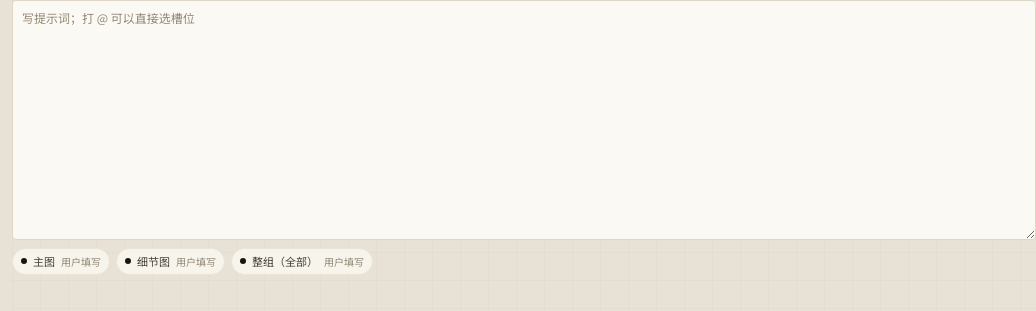
撤销 / 重做 › Ctrl+Shift+Z 重做回来
Click the field: x=524, y=120 [12,0,1035,240]
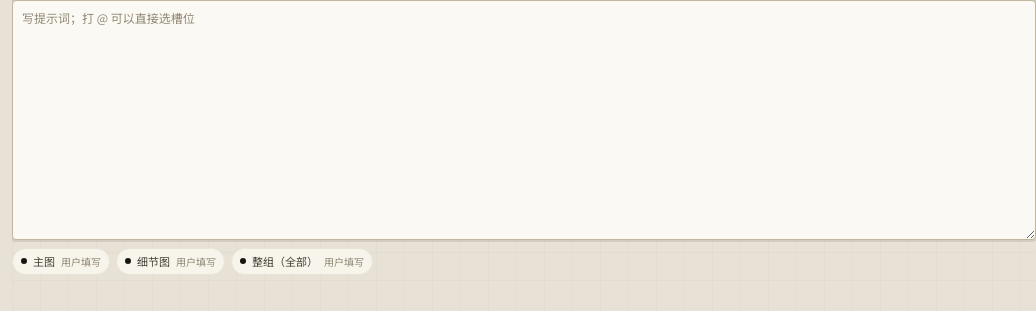
Type keys "参考 {{slot:image_1}}"
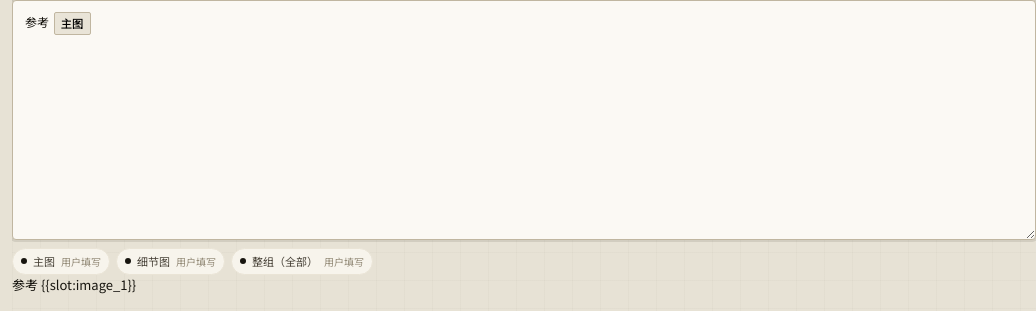
Type keys "{Control>}z{/Control}"
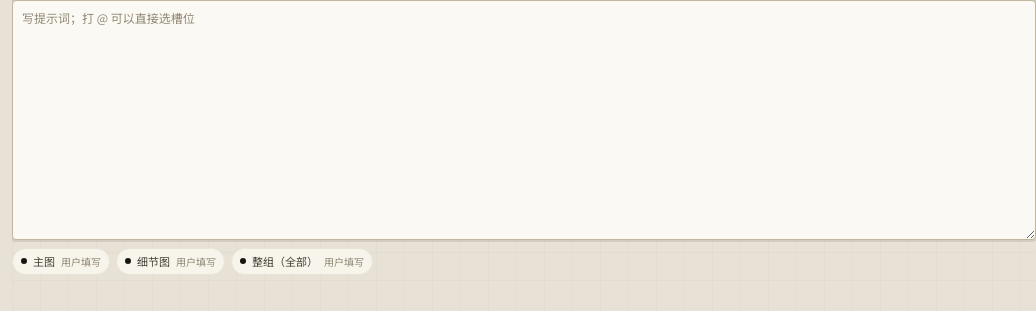
Type keys "{Control>}{Shift>}Z{/Shift}{/Control}"
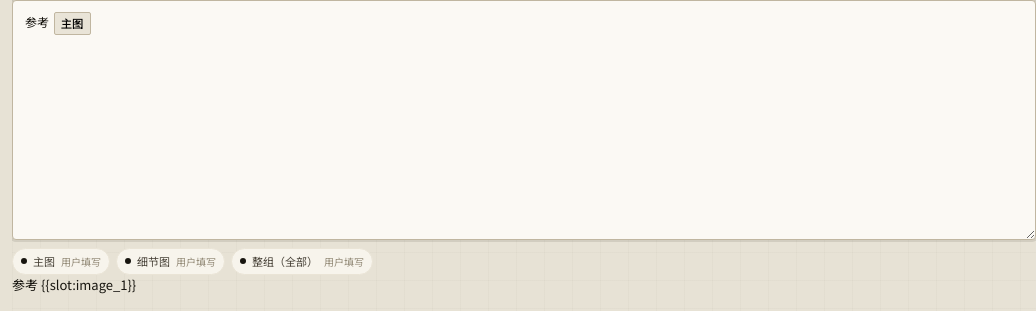
expect the text with test id "value" reads "参考 {{slot:image_1}}": met, box [12,274,136,294]
expect the 1st text "主图" is shown: met, box [54,12,90,35]
